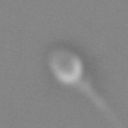normal: (77, 78, 128, 128)
